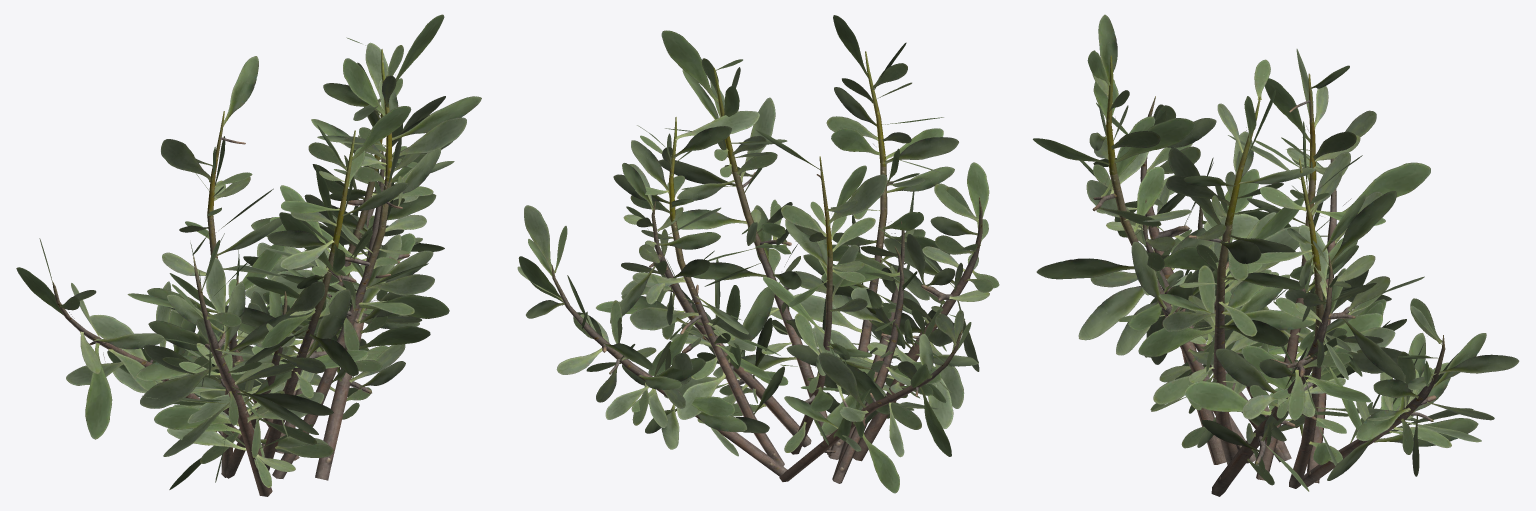
File: coastal-shrub-0-near.glb
The picture shows the model from 3 angles, left to right: view 1: azimuth 30°, elevation 25°; view 2: azimuth 150°, elevation 25°; view 3: azimuth 270°, elevation 25°; orthographic projection. The views are drawn at different scales.
Visible parts, largest first — view 1: othonna_cerarioides_g; view 2: othonna_cerarioides_g; view 3: othonna_cerarioides_g.
Part boxes in pixels (x1,y1,x2,y2): othonna_cerarioides_g: (16,14,481,496); othonna_cerarioides_g: (517,15,999,493); othonna_cerarioides_g: (1033,14,1519,496).
Size of the model in its own units: 1 by 0.9307 by 0.8755.
Materials: 2 (2 with a texture image).
